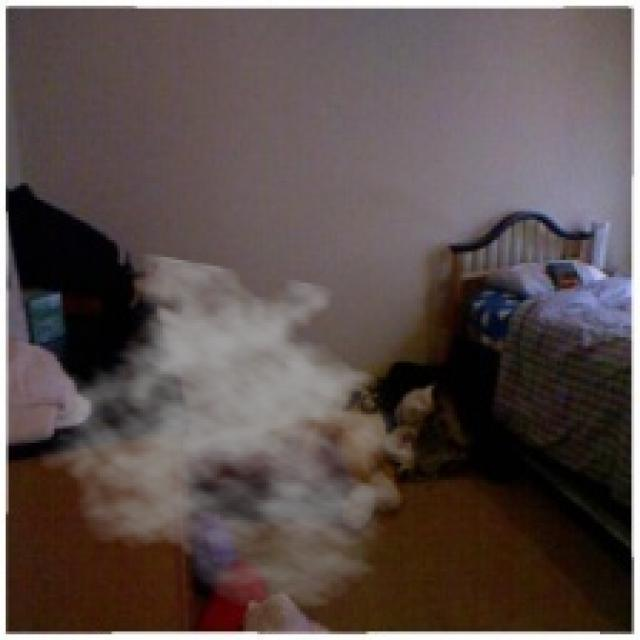Smoke: (34, 252, 440, 614)
